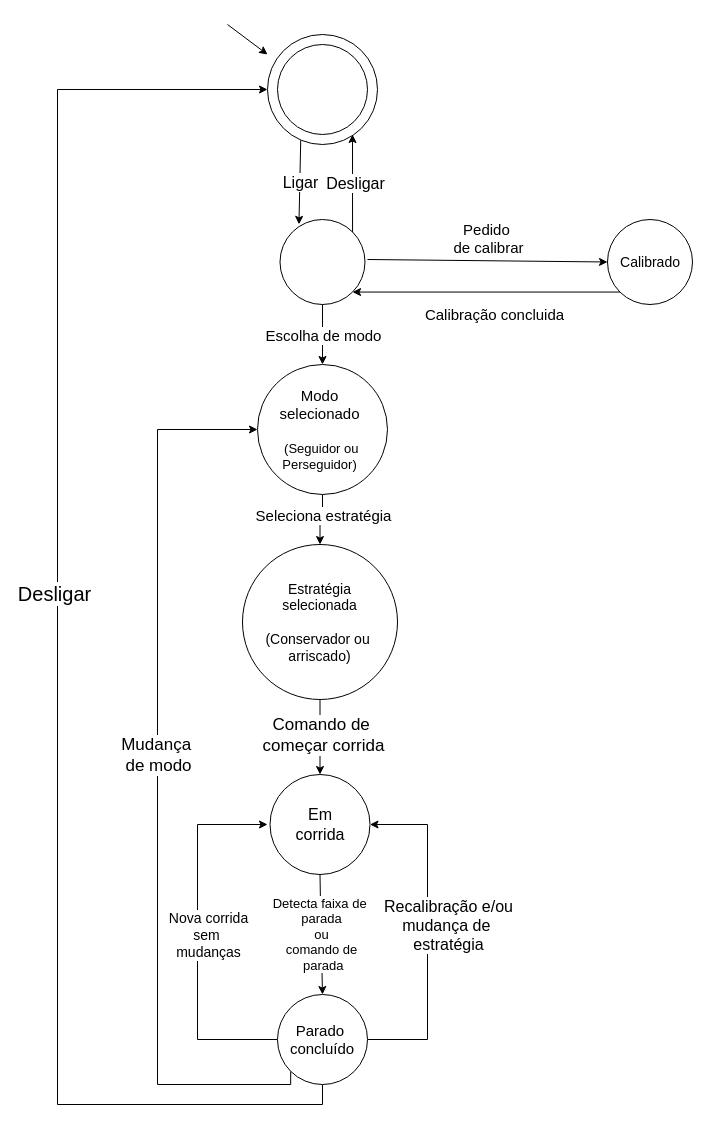
This 710x1130 diagram has some shape labels left out. Each missing label, with the box of its shape:
Desligado: (276, 44, 368, 134)
Parado ligado: (279, 218, 365, 304)
